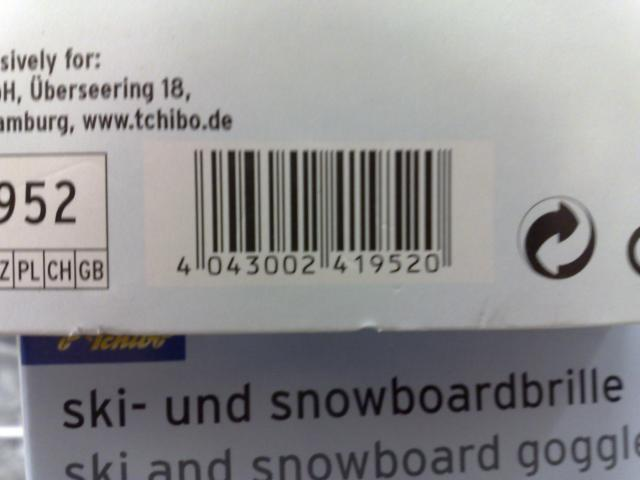Barcode: (145, 140, 492, 283)
